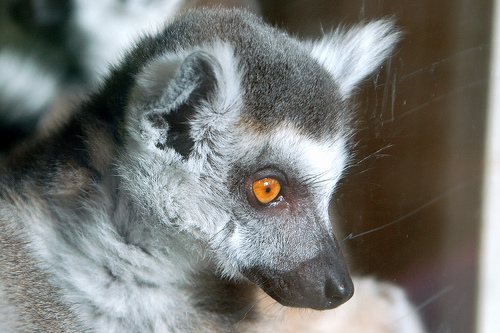cat: (0, 0, 404, 332)
